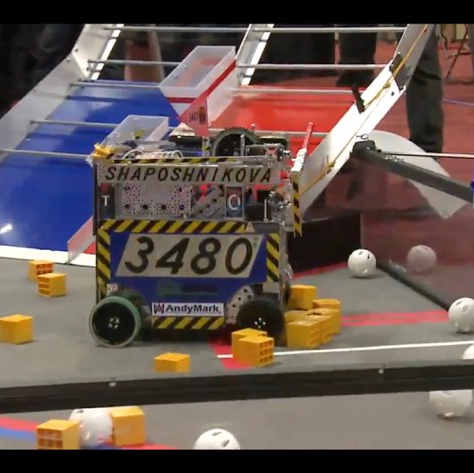robot: (88, 121, 299, 351)
